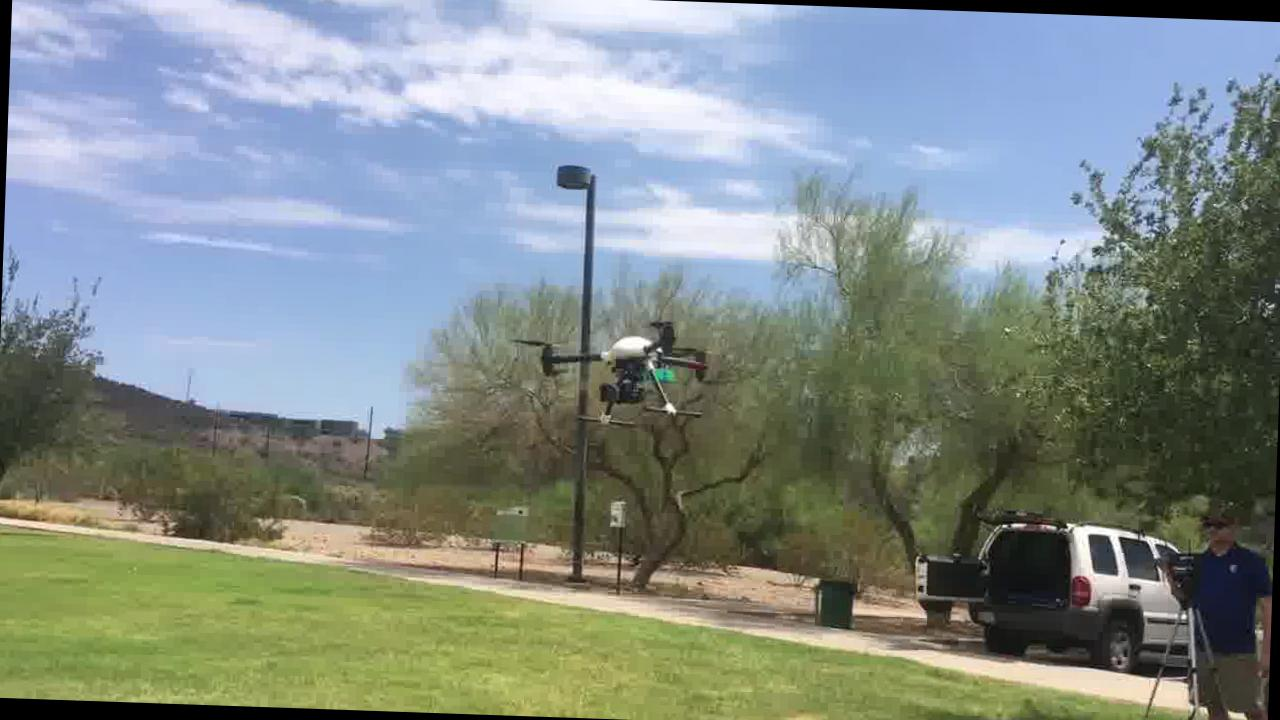drone: (516, 310, 716, 430)
